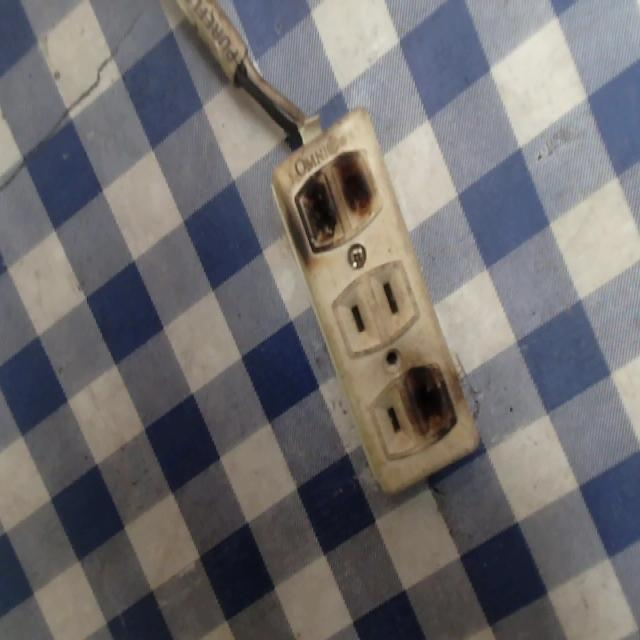-: (285, 143, 385, 255), (398, 360, 461, 444)
